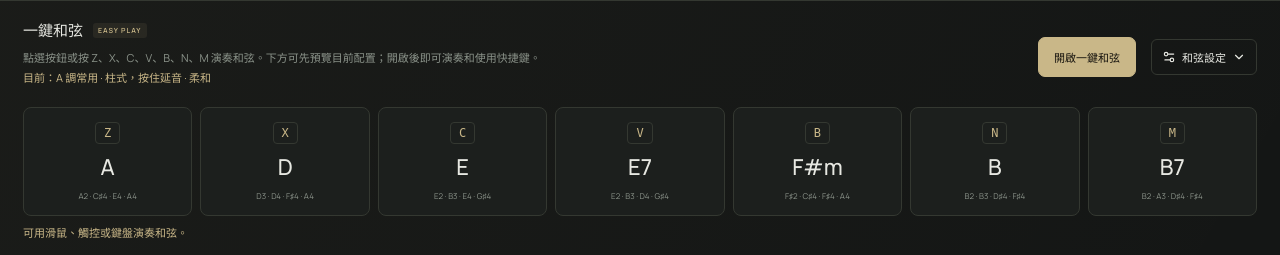
Scenario: shows a seven-card preview while disabled and provides a clear enable switch
What coordinates should you click on to do the following:
click the button with class "chord-toggle"
I would click on:
 (1087, 57)
Its box is top-left (1038, 37), bottom-right (1136, 77).
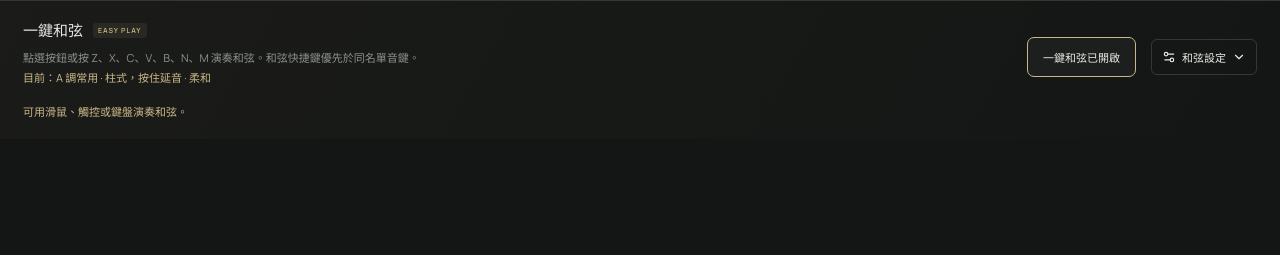
Check: the element with class "is-preview" is gone
Check: the button with class "chord-toggle" reads "一鍵和弦已開啟", box top-left (1027, 37), bottom-right (1136, 77)
